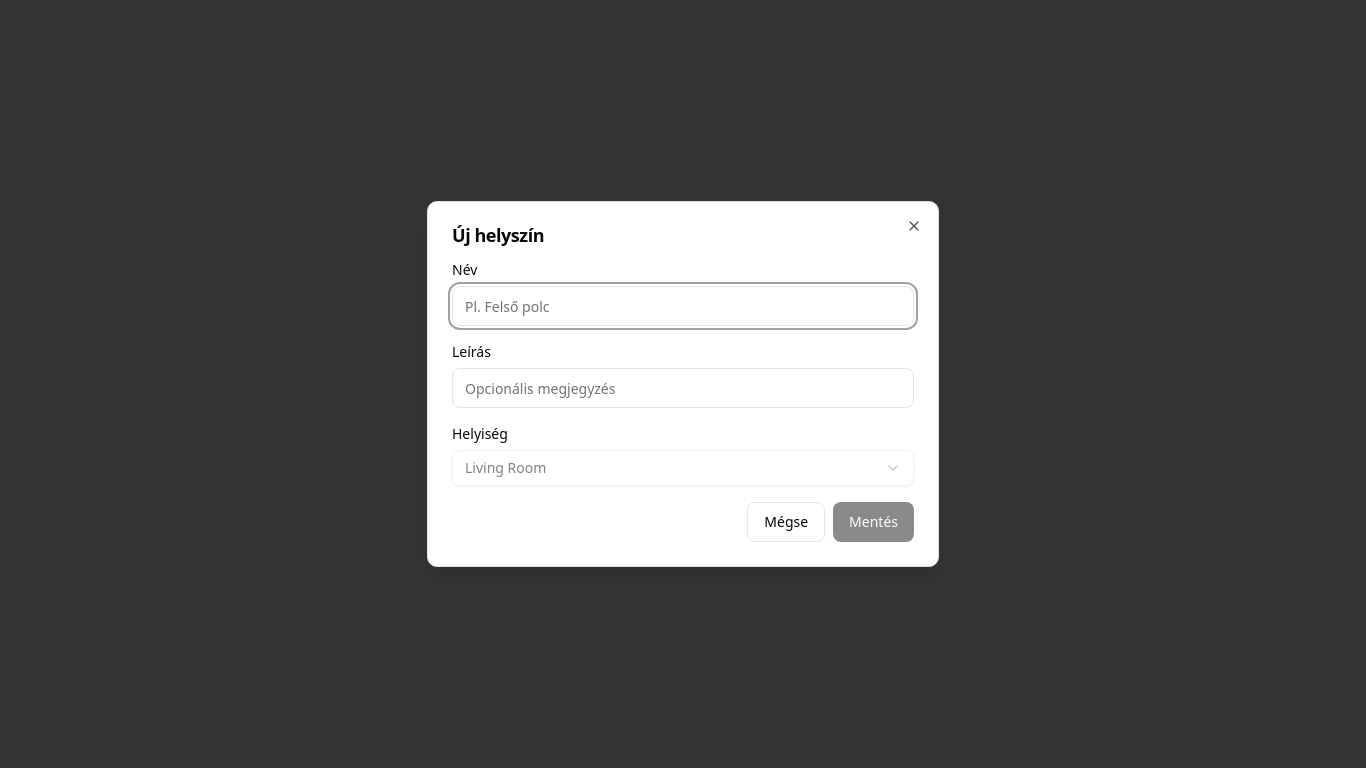
Scenario: LocationFormModal — create mode › shows error message on unexpected failure
In the field with placeholder "Pl. Felső polc": (683, 306) [452, 286, 914, 326], type "Top Shelf"
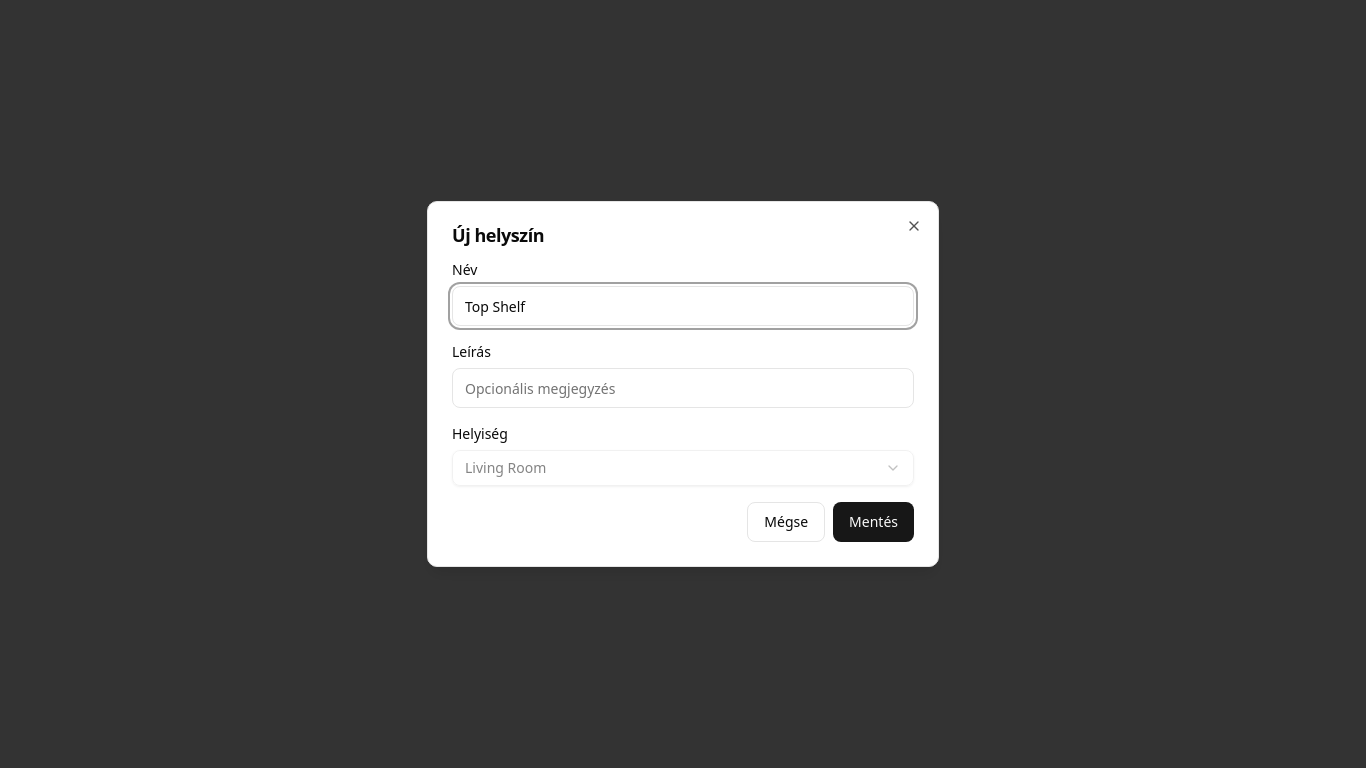
Click the button "Mentés": (874, 522) [833, 502, 914, 542]
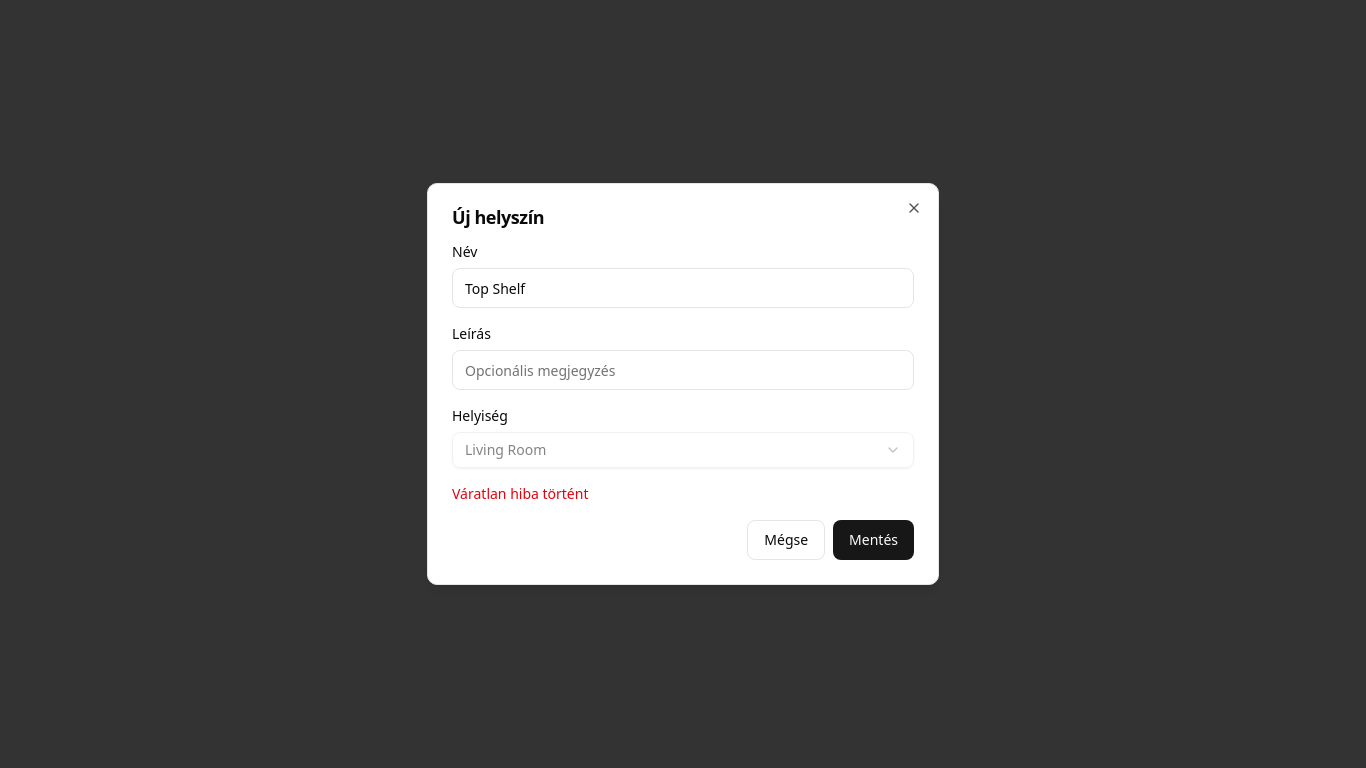
Result: the text "Váratlan hiba történt" is shown at [452, 484, 588, 503]
